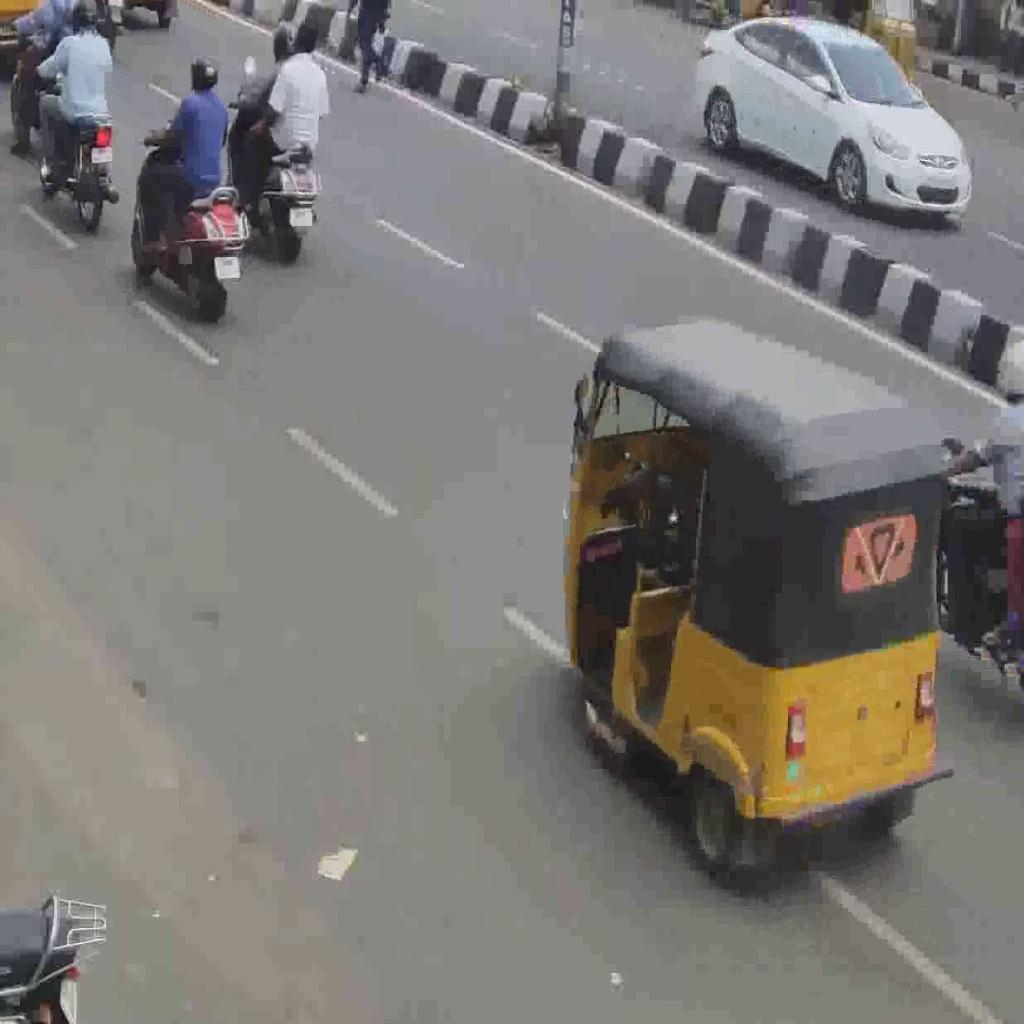helmet: (129, 118, 249, 320), (226, 76, 321, 260), (36, 72, 121, 230)
